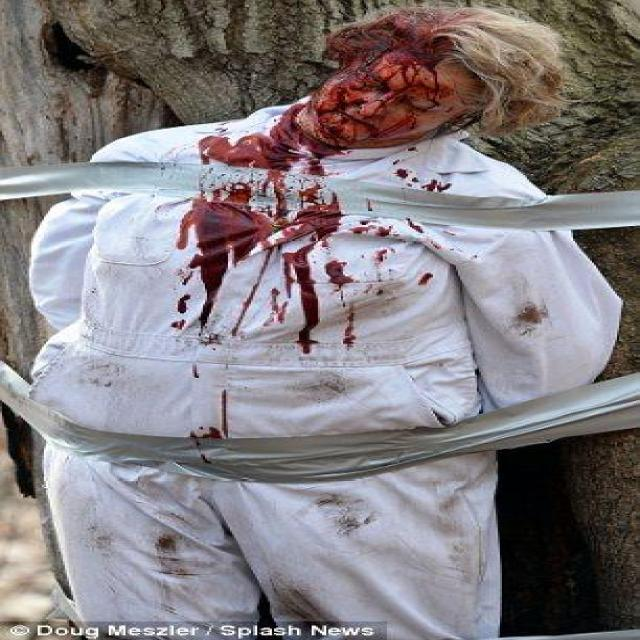flood: (184, 127, 340, 356), (318, 26, 448, 115)
